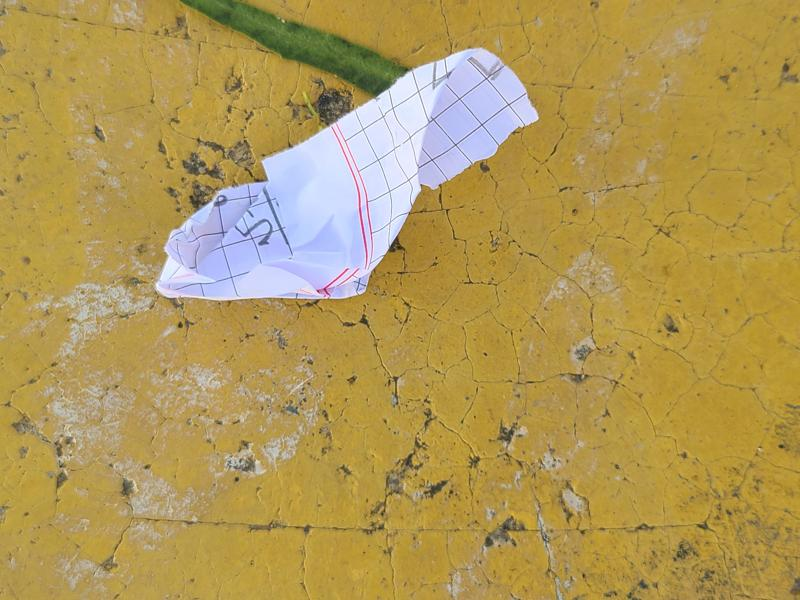papel: (156, 48, 538, 303)
